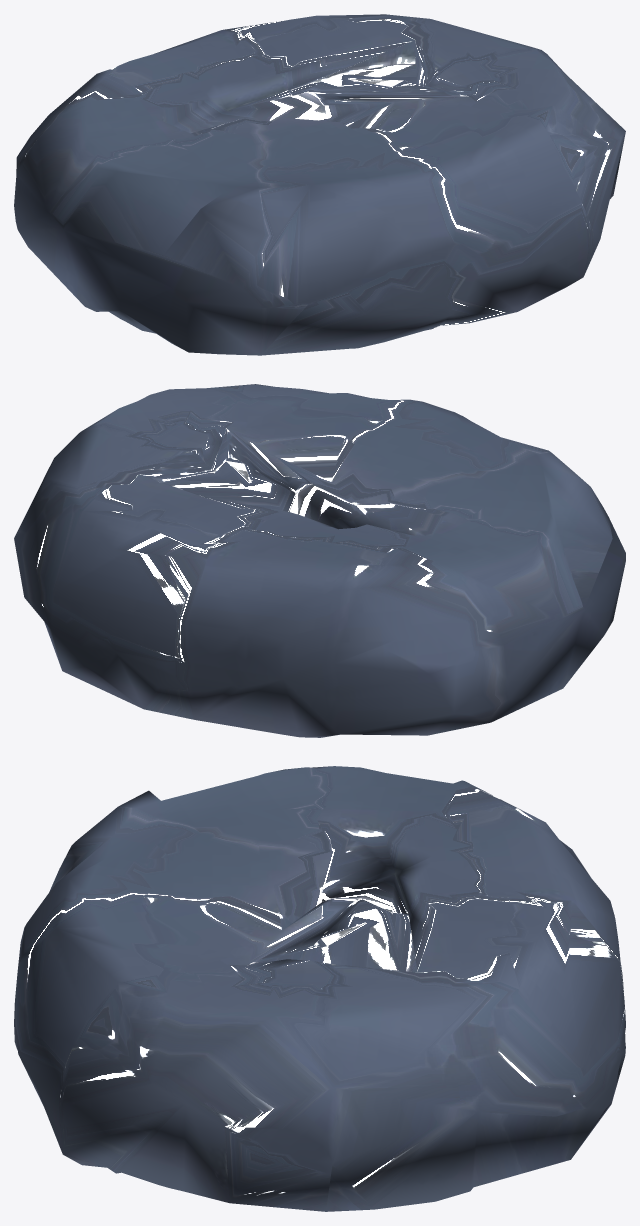
File: loot_rune-BdkOLkxT.glb
3 renders of one model, top to bottom at view 1: azimuth 30°, elevation 25°; view 2: azimuth 150°, elevation 25°; view 3: azimuth 270°, elevation 25°, orthographic. The views are drawn at different scales.
Visible parts, largest first — view 1: tripo_node_d1f10325-6d32-4310-b71a-538c3c175652; view 2: tripo_node_d1f10325-6d32-4310-b71a-538c3c175652; view 3: tripo_node_d1f10325-6d32-4310-b71a-538c3c175652.
Boxes of the visible parts, bbox=[...] form: tripo_node_d1f10325-6d32-4310-b71a-538c3c175652: bbox=[14, 14, 625, 355]; tripo_node_d1f10325-6d32-4310-b71a-538c3c175652: bbox=[14, 384, 625, 737]; tripo_node_d1f10325-6d32-4310-b71a-538c3c175652: bbox=[14, 766, 625, 1211].
Bounding box in the file's own units: 1 × 0.2932 × 0.8289.
Materials: 1 (1 with a texture image).
